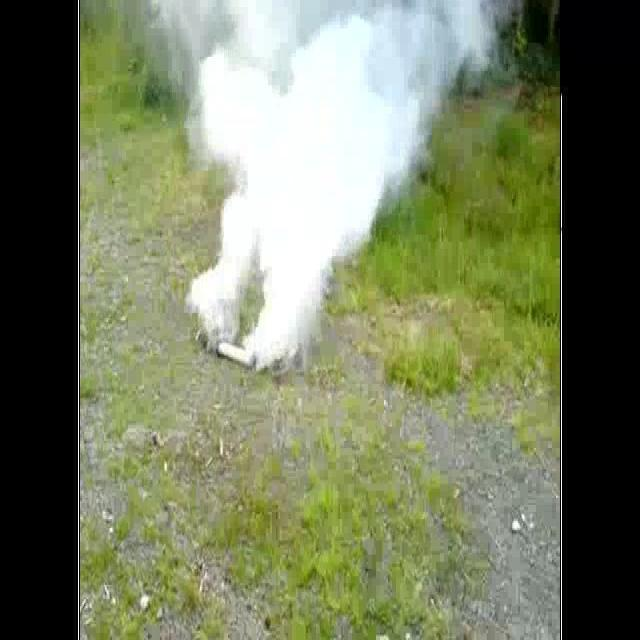Smoke: (123, 0, 527, 377)
